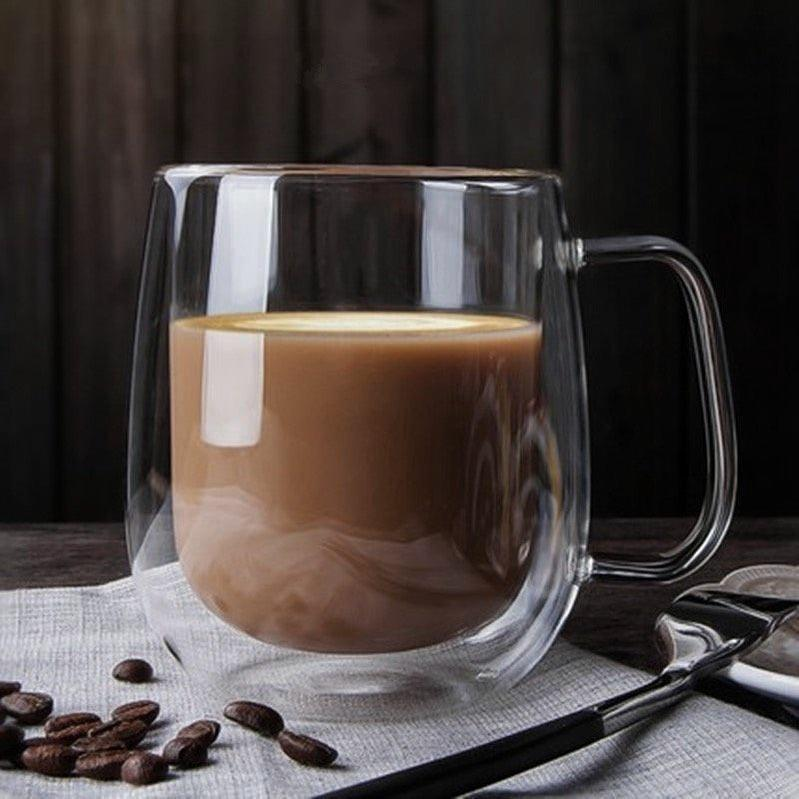glass-mug: (111, 137, 744, 737)
